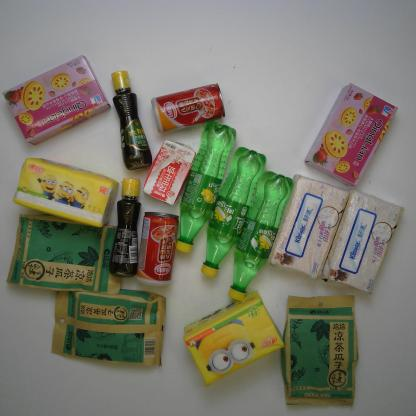Canned Food: (148, 76, 228, 136), (133, 210, 181, 288)
Dessert: (301, 79, 400, 189), (0, 53, 112, 147)
Dried Food: (48, 282, 170, 371), (4, 210, 124, 296), (277, 292, 362, 408)
Drink: (226, 168, 297, 302), (198, 145, 269, 278), (174, 119, 238, 254)
Milk: (140, 136, 198, 208)
Seasoner: (106, 67, 156, 172), (106, 174, 143, 280)
Tissue: (181, 288, 286, 387), (263, 171, 351, 282), (318, 186, 406, 296), (10, 153, 121, 229)
